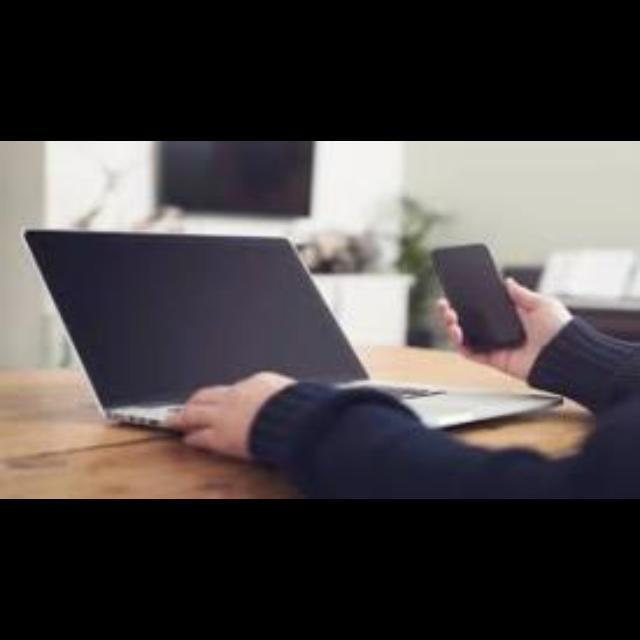phone: (409, 230, 549, 366)
